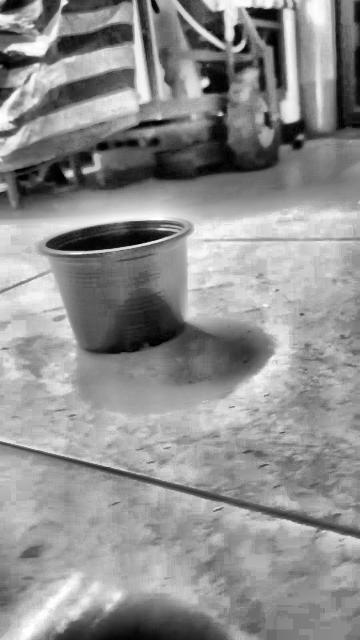pot: (39, 219, 193, 354)
